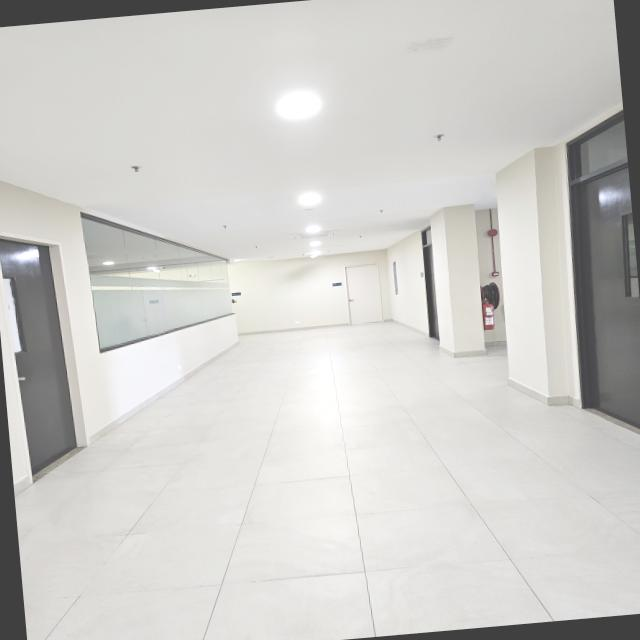footpath: (152, 367, 525, 640), (244, 323, 413, 386)
